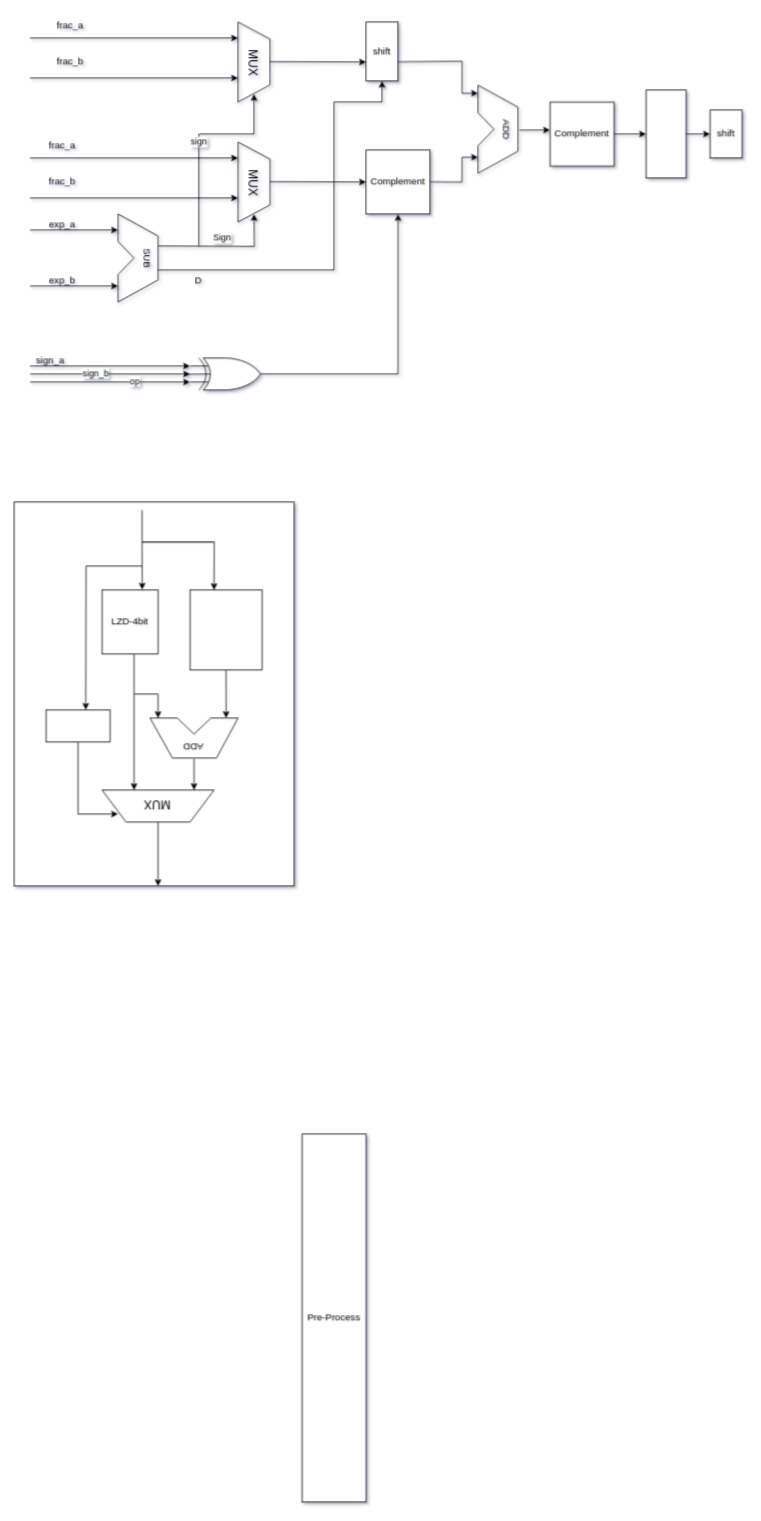
Image size: 761x1521. Some labels were removed from this diagram. The centre of each missing label's shape, as x and y in pixels:
"LZD" belongs at point 665,133.
"LZD-32bit" belongs at point 225,629.
"Sel_controller" belongs at point 77,725.
